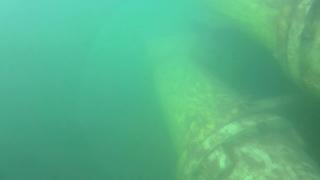pipe: (153, 42, 320, 180), (204, 1, 318, 98)
